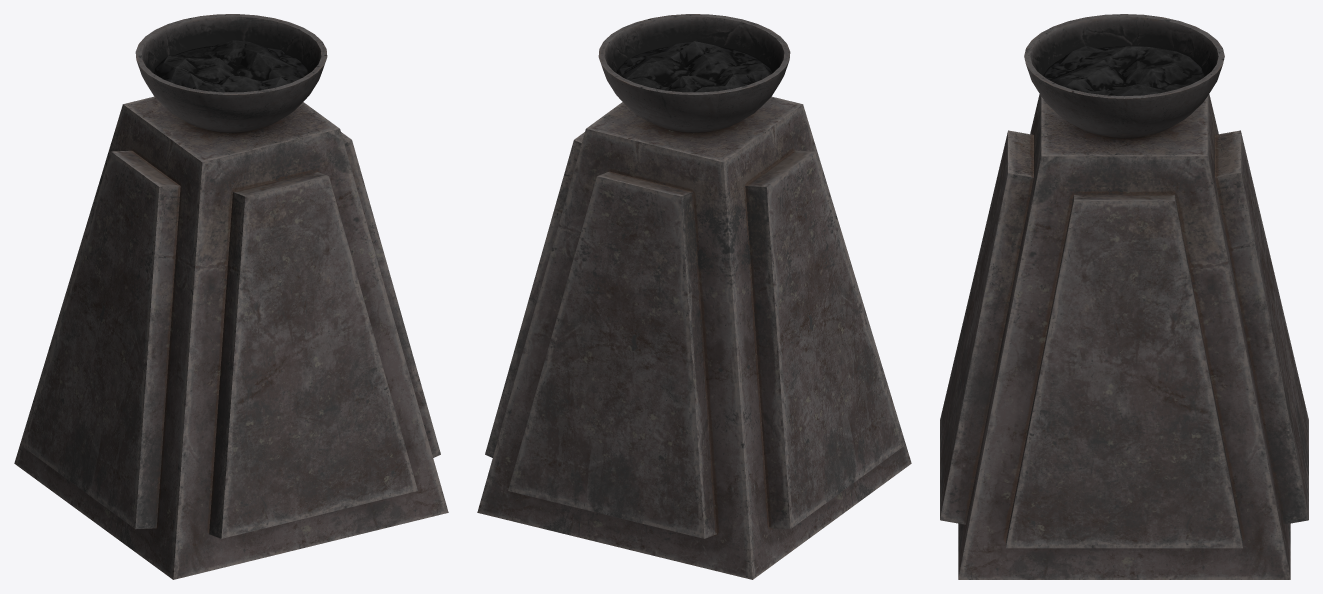
The model's file is SM_Torch1.fbx.
The picture shows the model from 3 angles, left to right: view 1: azimuth 30°, elevation 25°; view 2: azimuth 150°, elevation 25°; view 3: azimuth 270°, elevation 25°; orthographic projection. The views are drawn at different scales.
Parts seen in each view (by area): view 1: SM_Torch1_LOD0; view 2: SM_Torch1_LOD0; view 3: SM_Torch1_LOD0.
Part boxes in pixels (<box>): SM_Torch1_LOD0: <box>14,14,448,579</box>; SM_Torch1_LOD0: <box>477,14,911,579</box>; SM_Torch1_LOD0: <box>940,14,1308,579</box>.
Size of the model in its own units: 84.35 by 84.35 by 114.
Materials: 1 (1 with a texture image).
